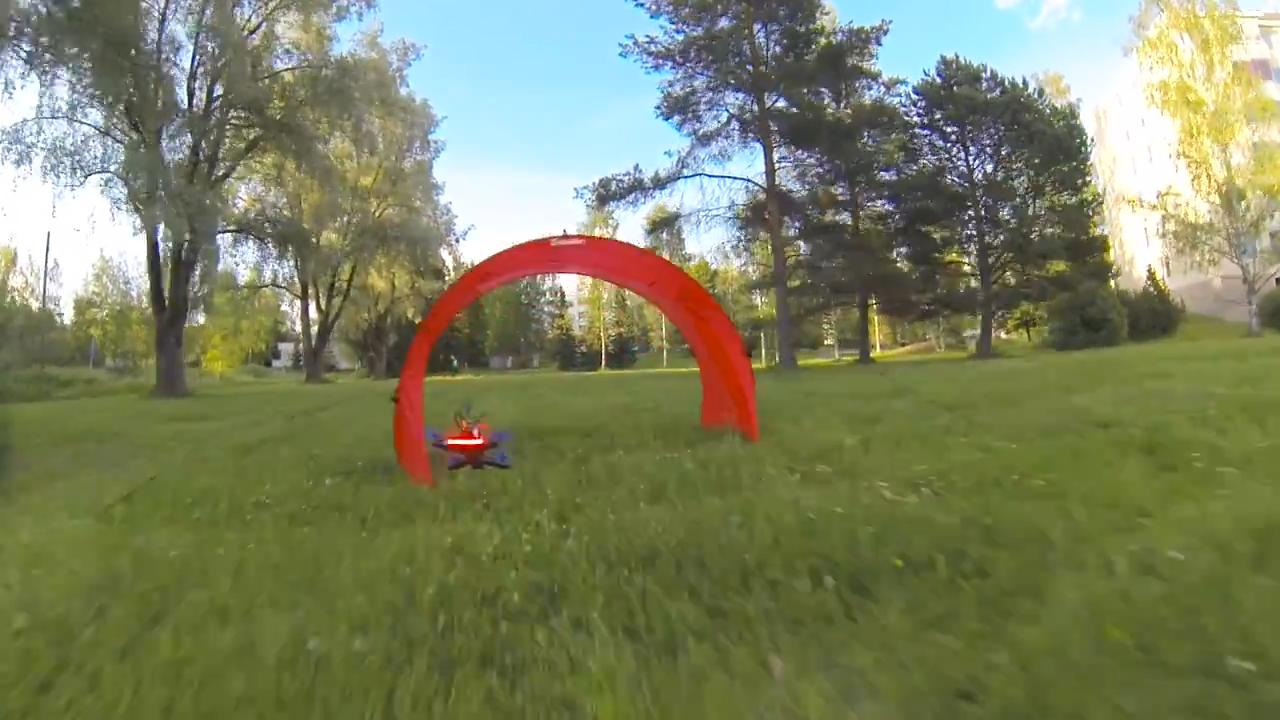gate: (396, 229, 765, 482)
